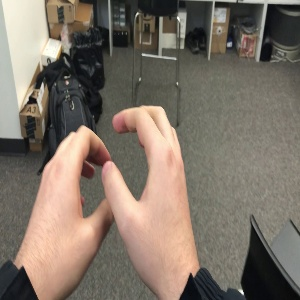hand: (102, 106, 199, 280), (26, 125, 121, 284)
